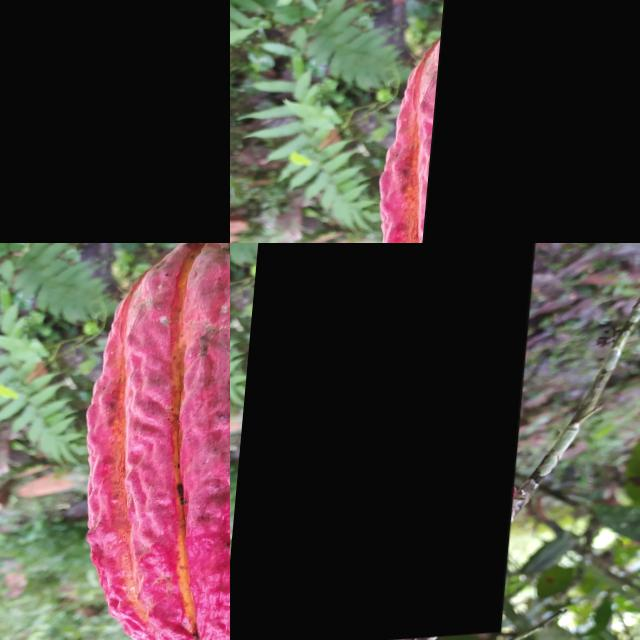Sana: (231, 243, 543, 640), (0, 0, 230, 243), (412, 0, 640, 243)
